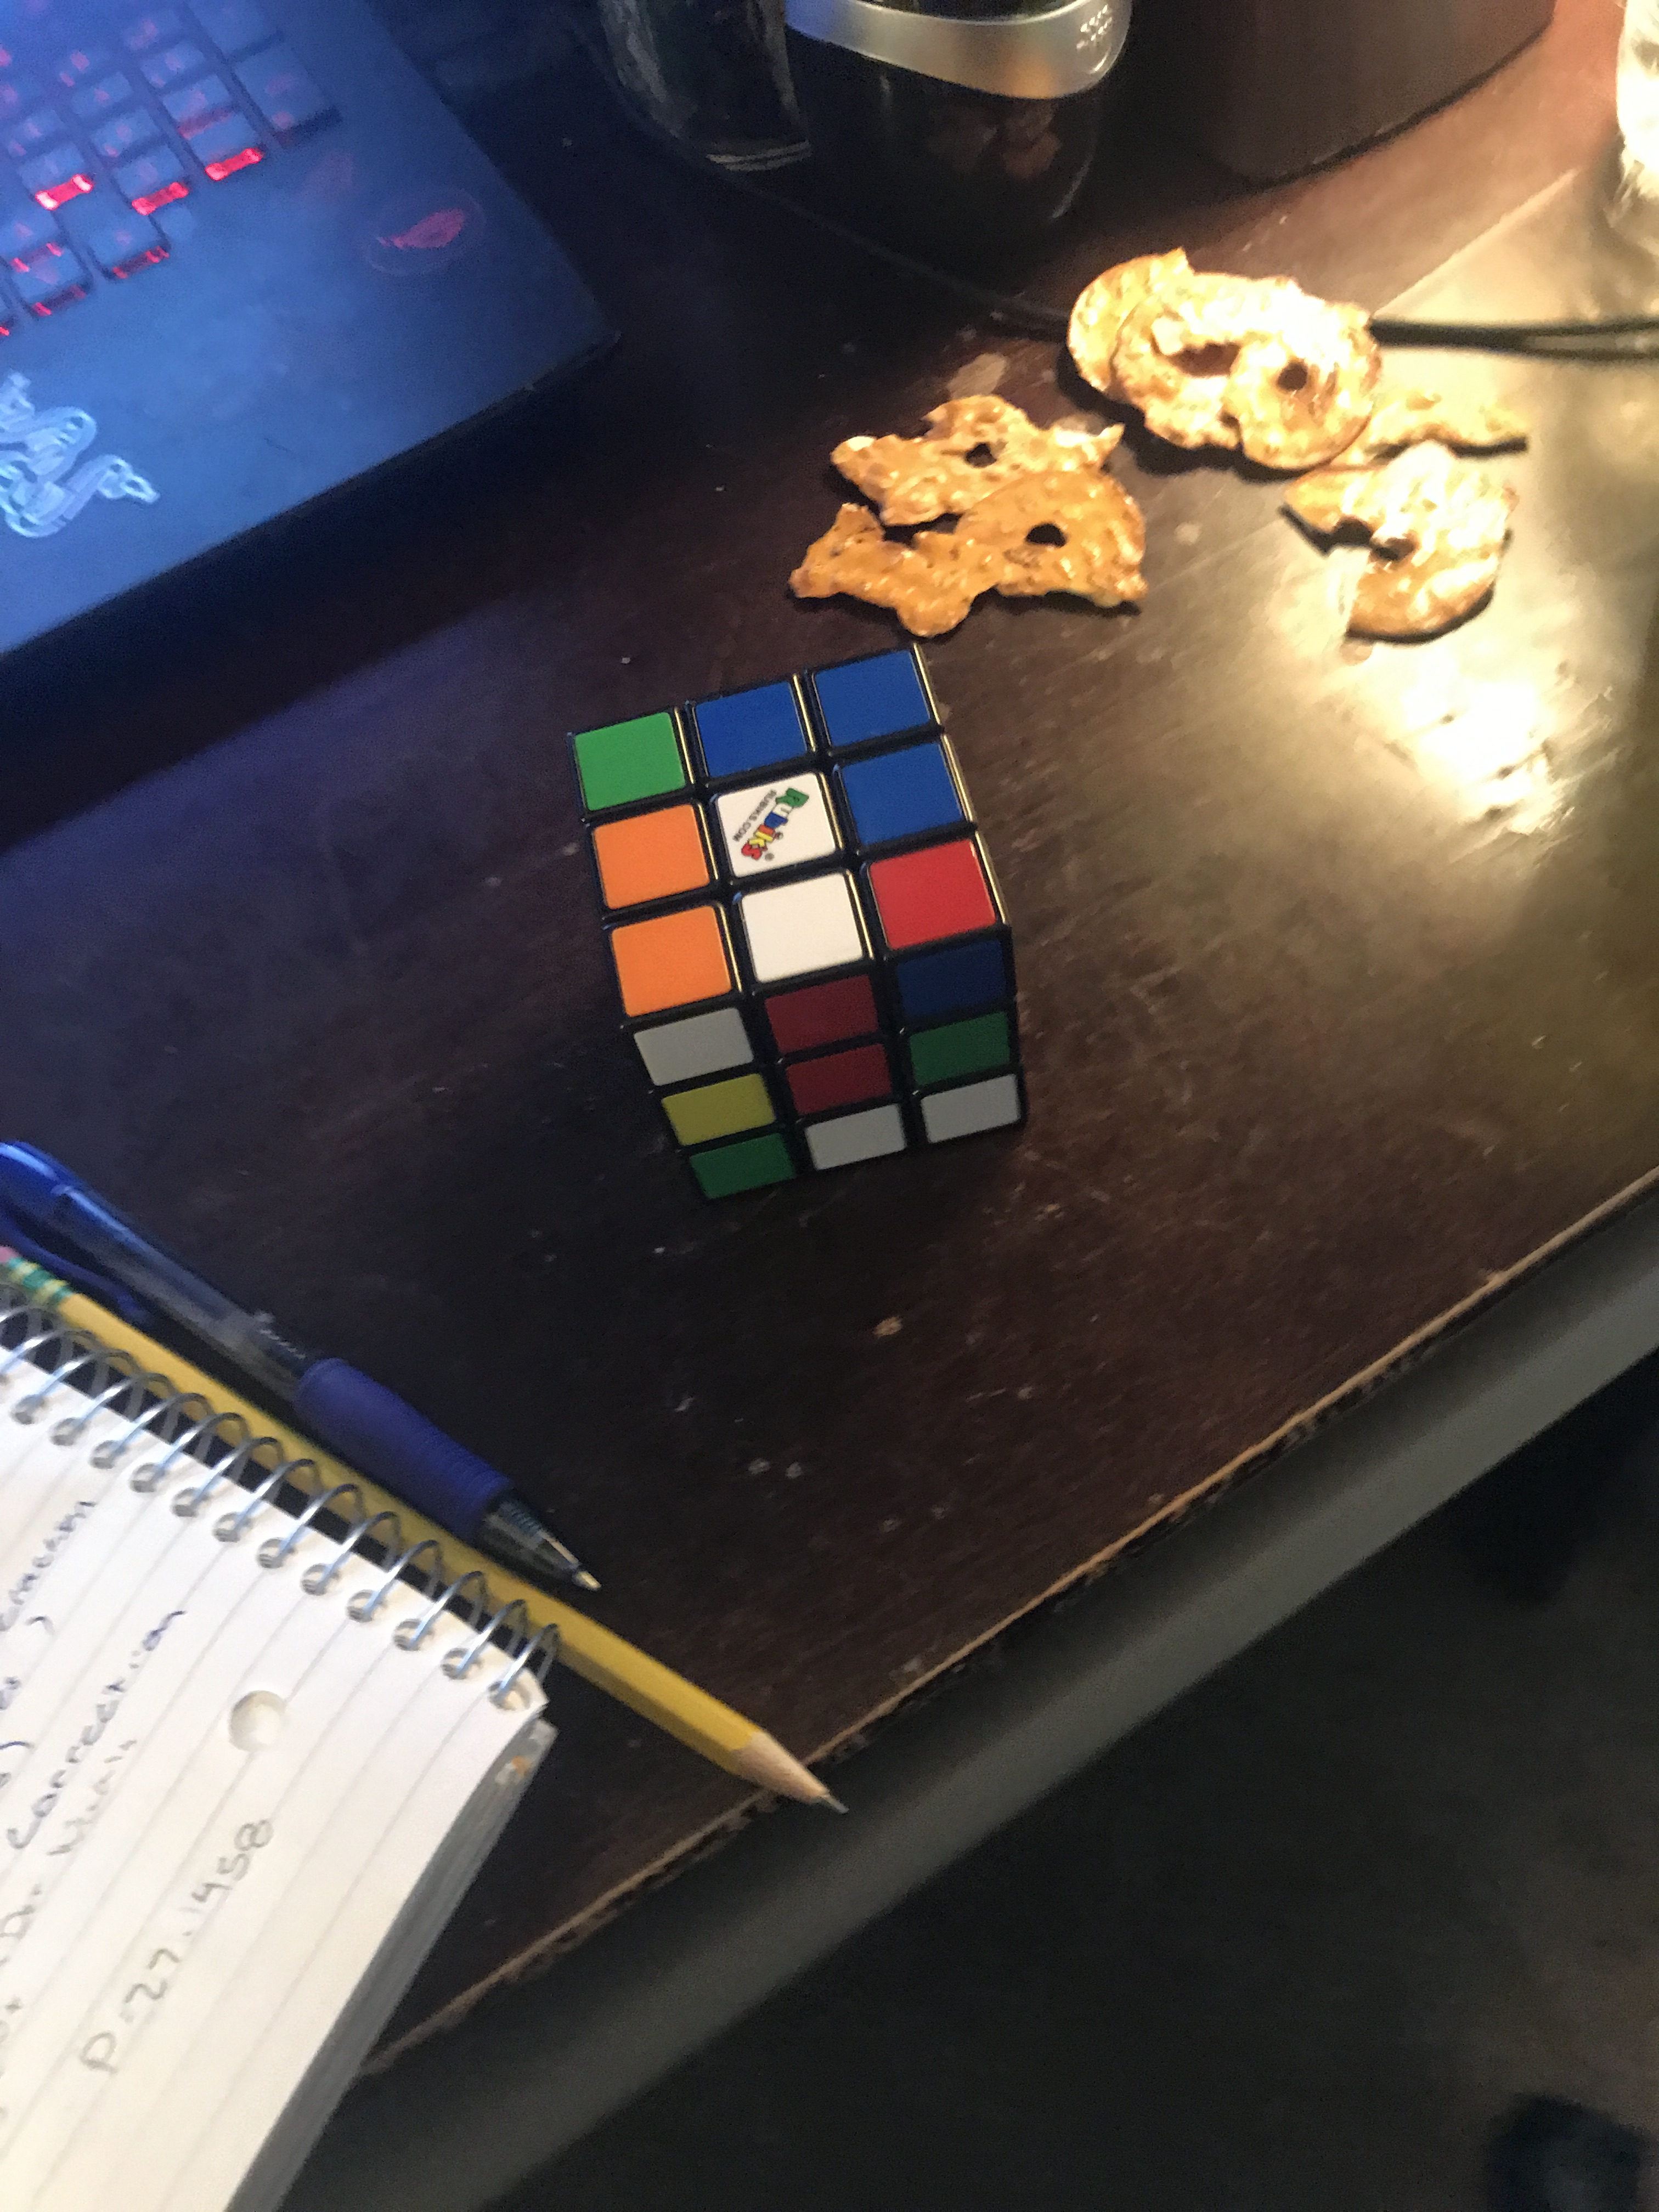rubiks: (568, 641, 1037, 1214)
